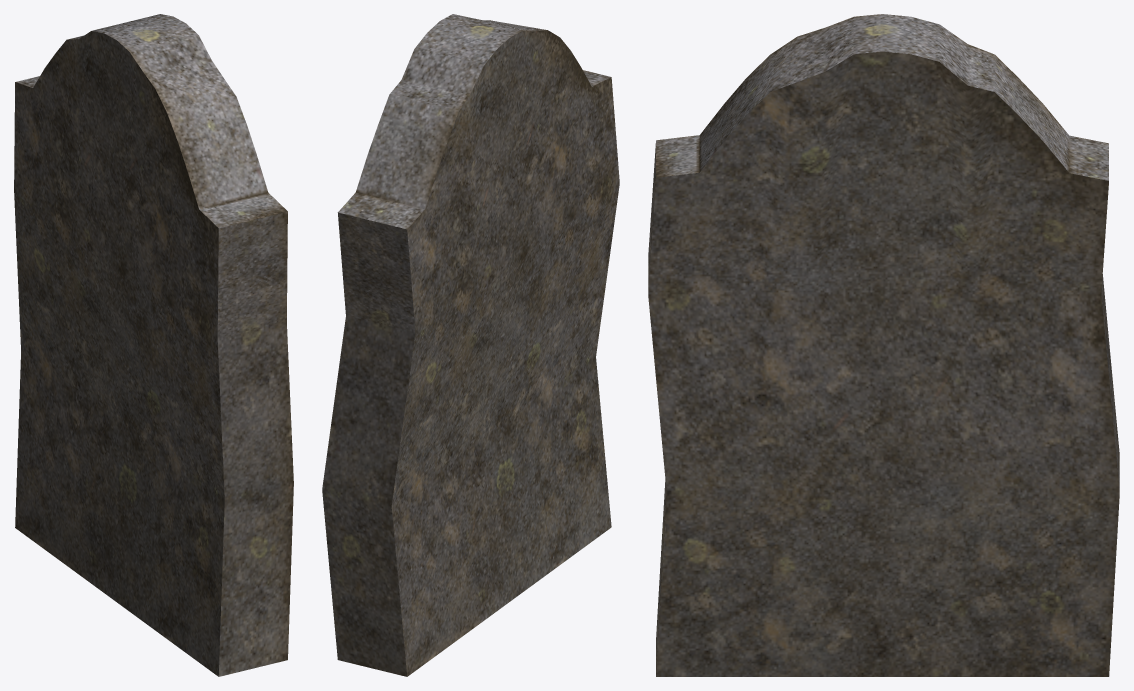
File: gravestone1.glb
The picture shows the model from 3 angles, left to right: view 1: azimuth 30°, elevation 25°; view 2: azimuth 150°, elevation 25°; view 3: azimuth 270°, elevation 25°; orthographic projection. The views are drawn at different scales.
Parts seen in each view (by area): view 1: Grave2_Graves_0; view 2: Grave2_Graves_0; view 3: Grave2_Graves_0.
Boxes of the visible parts, <box> form: Grave2_Graves_0: <box>14,14,293,676</box>; Grave2_Graves_0: <box>322,14,619,676</box>; Grave2_Graves_0: <box>648,14,1119,676</box>.
Size of the model in its own units: 14.75 by 93.66 by 64.01.
Materials: 1 (1 with a texture image).
